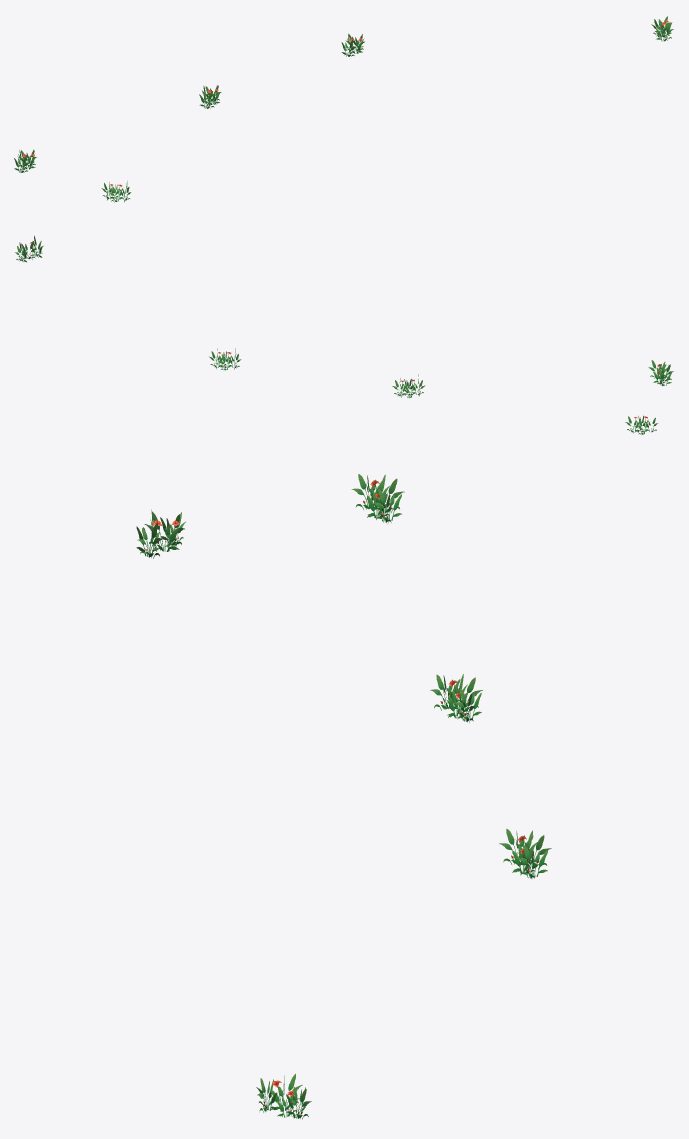
Rendered from area_12_2.FBX.
The picture shows the model from 3 angles, top to bottom: view 1: azimuth 30°, elevation 25°; view 2: azimuth 150°, elevation 25°; view 3: azimuth 270°, elevation 25°; orthographic projection. The views are drawn at different scales.
Visible parts, largest first — view 1: area_12_2; view 2: area_12_2; view 3: area_12_2.
Part boxes in pixels (box(x1,y1,x2,y2)): area_12_2: box(14, 16, 673, 202); area_12_2: box(15, 235, 673, 434); area_12_2: box(136, 474, 551, 1119).
Bounding box in the file's own units: 53.55 × 1.55 × 15.17.
